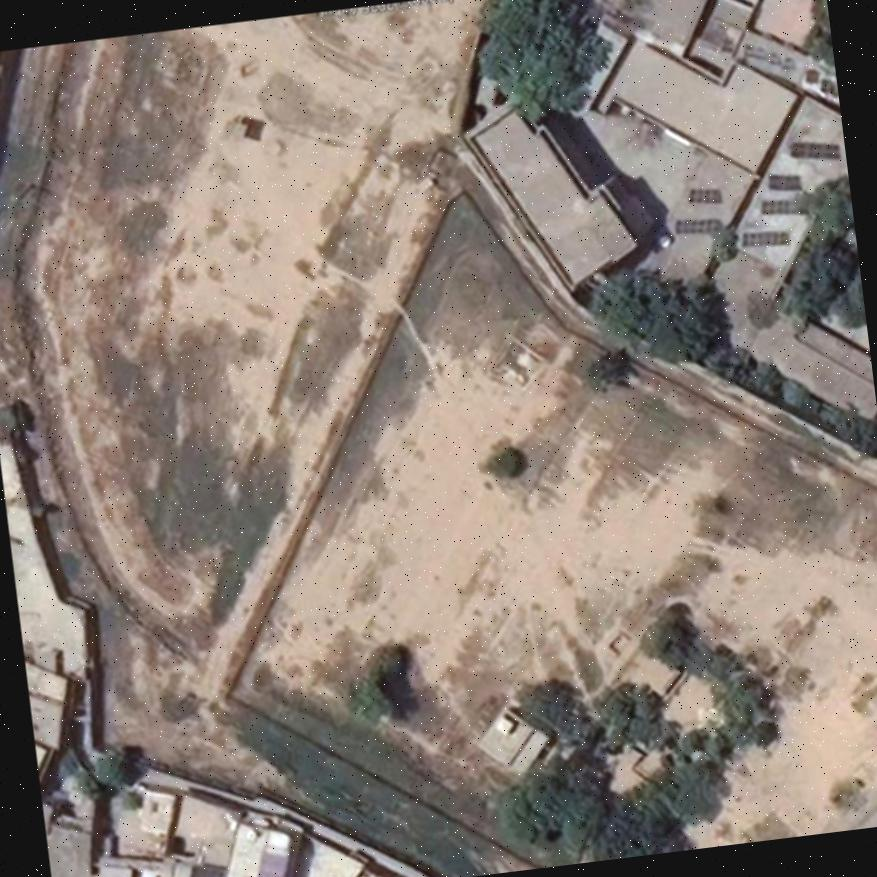Solarpanel: (673, 218, 725, 235), (788, 142, 840, 159), (760, 197, 806, 214), (740, 231, 791, 246), (189, 858, 224, 877), (767, 174, 802, 190), (686, 190, 720, 202)
